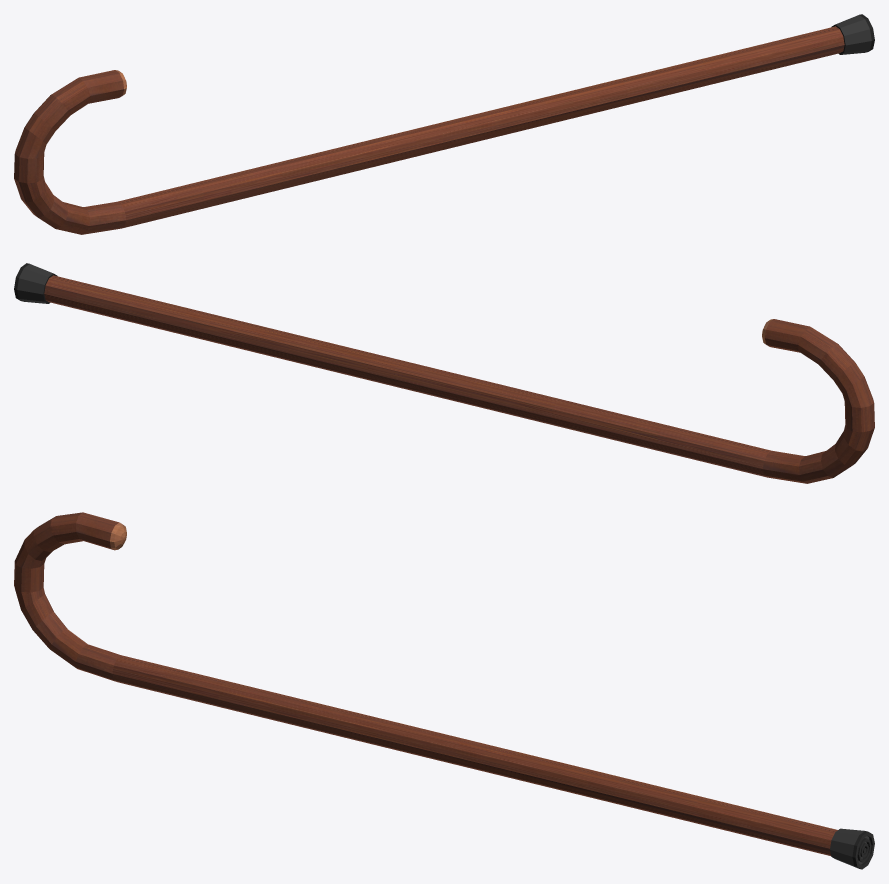
Rendered from WalkingStick.fbx.
3 renders of one model, top to bottom at view 1: azimuth 30°, elevation 25°; view 2: azimuth 150°, elevation 25°; view 3: azimuth 330°, elevation 25°, orthographic.
Visible parts, largest first — view 1: ZomboidWalkingStick; view 2: ZomboidWalkingStick; view 3: ZomboidWalkingStick.
Part boxes in pixels (<box>): ZomboidWalkingStick: <box>14,14,874,234</box>; ZomboidWalkingStick: <box>14,263,874,483</box>; ZomboidWalkingStick: <box>14,512,874,869</box>.
Bounding box in the file's own units: 0.574 × 0.1047 × 0.0228.
